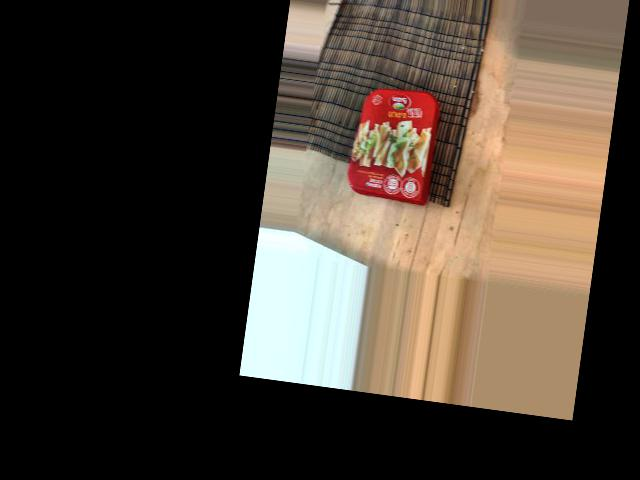cheese: (298, 37, 435, 143)
